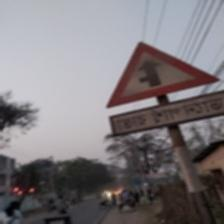Side-road-right: (104, 41, 224, 140)
